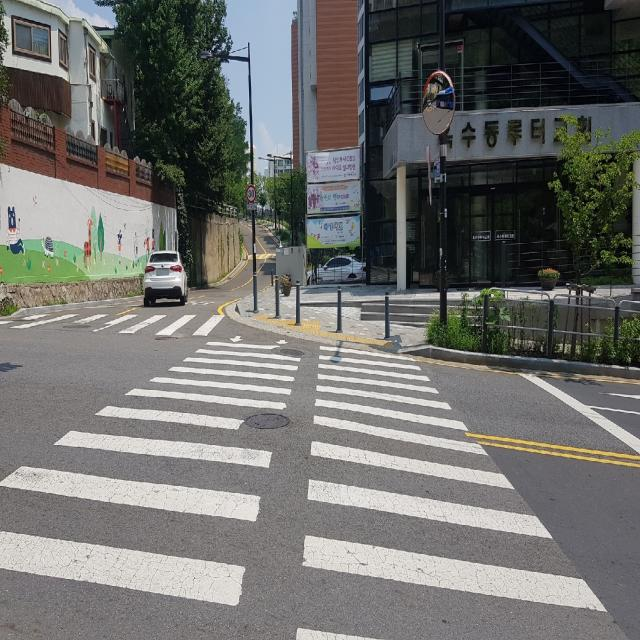횡단보도: (0, 336, 607, 639), (7, 300, 225, 343)
